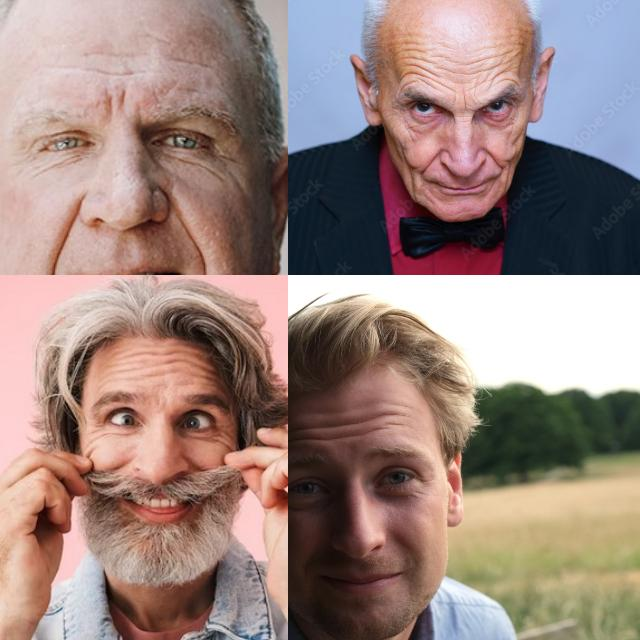crows_feet: (213, 422, 233, 450)
forehead: (78, 56, 150, 82), (496, 44, 522, 84), (166, 51, 214, 71), (398, 52, 426, 84), (429, 54, 451, 92), (322, 419, 352, 446), (192, 350, 214, 386), (288, 423, 318, 449), (358, 412, 388, 438), (151, 343, 185, 365), (462, 56, 493, 80), (390, 402, 412, 434), (114, 346, 146, 366)
frown_line: (99, 83, 133, 123), (459, 92, 473, 114)
gummy_smile: (167, 189, 205, 253), (48, 212, 79, 275), (419, 146, 441, 172), (185, 454, 209, 476), (484, 146, 502, 170), (105, 455, 128, 473)
masseter: (499, 162, 515, 188), (396, 140, 410, 162)
sad_smile: (186, 265, 217, 275)
